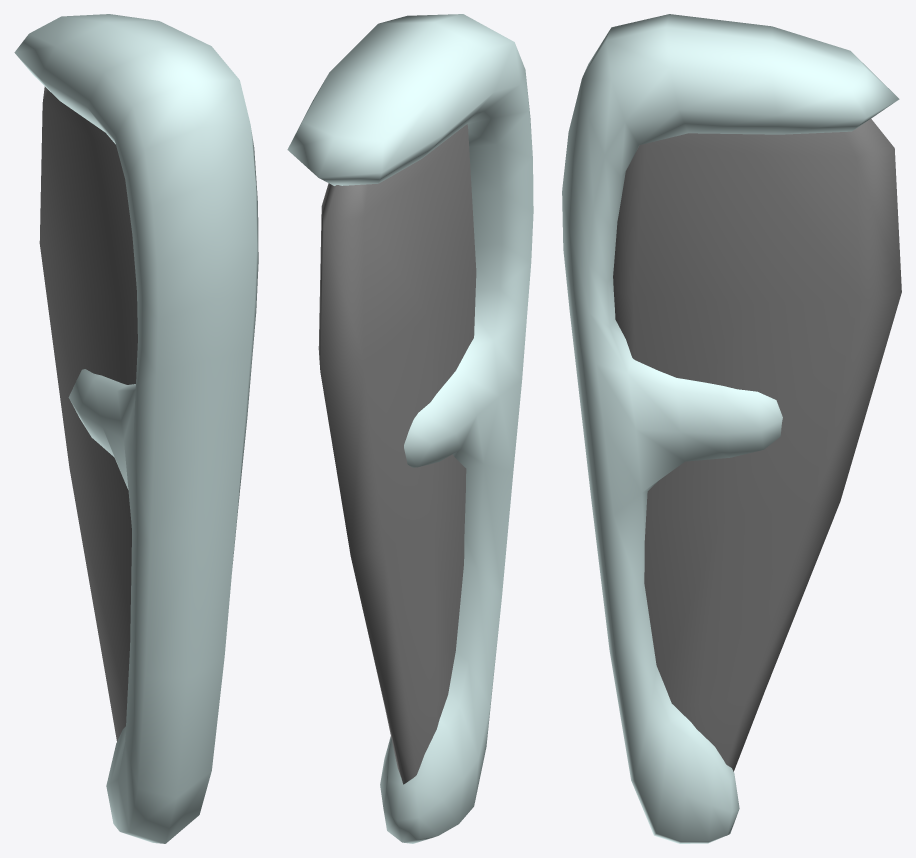
Rendered from Wings.fbx.
3 views of the same model, side by side, from view 1: azimuth 30°, elevation 25°; view 2: azimuth 150°, elevation 25°; view 3: azimuth 270°, elevation 25° (orthographic). The views are drawn at different scales.
Visible parts, largest first — view 1: Cube.064; view 2: Cube.064; view 3: Cube.064.
Part boxes in pixels (x1,y1,x2,y2): Cube.064: (14,14,258,843); Cube.064: (287,14,533,843); Cube.064: (562,14,901,843).
Size of the model in its own units: 98.38 by 565 by 213.
